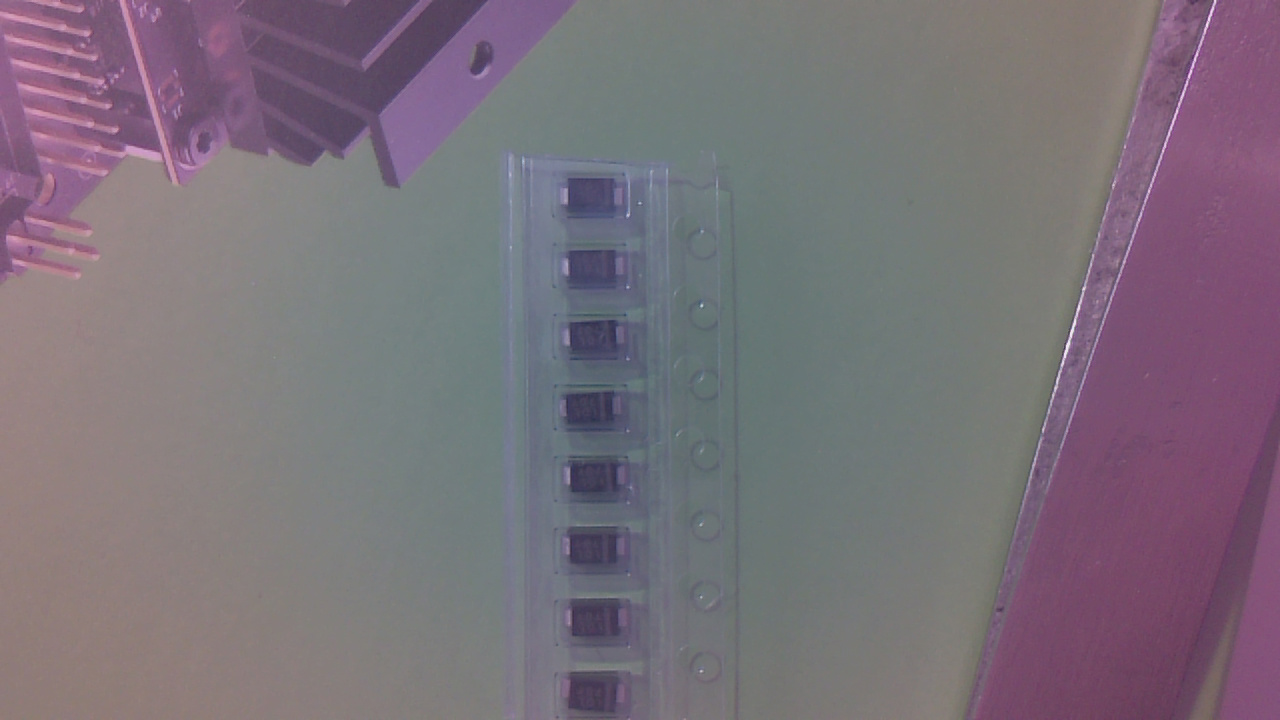Diode: (560, 677, 634, 718), (565, 605, 635, 646), (563, 182, 630, 224), (567, 533, 634, 573), (566, 251, 633, 289), (562, 395, 630, 432), (567, 323, 633, 360), (568, 463, 631, 501)
